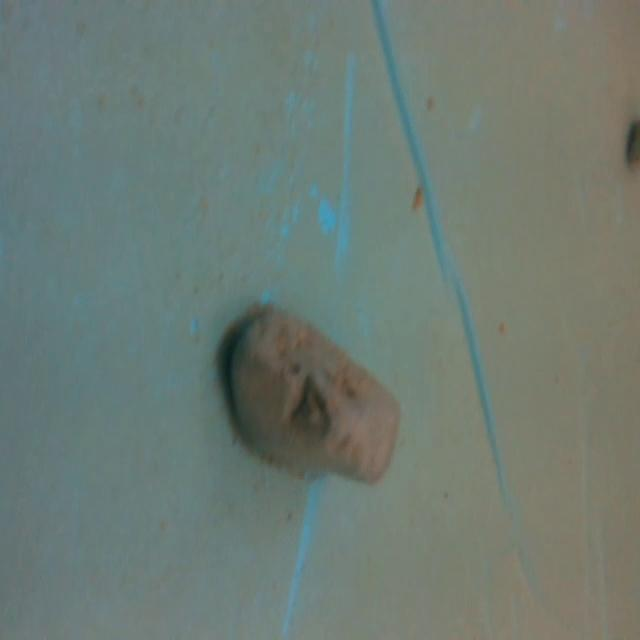rock: (221, 296, 413, 496)
